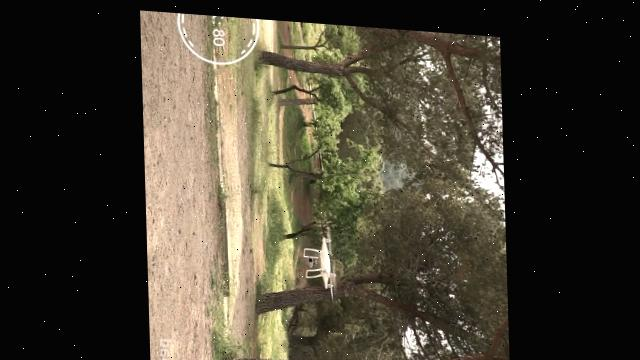drone: (300, 218, 337, 297)
